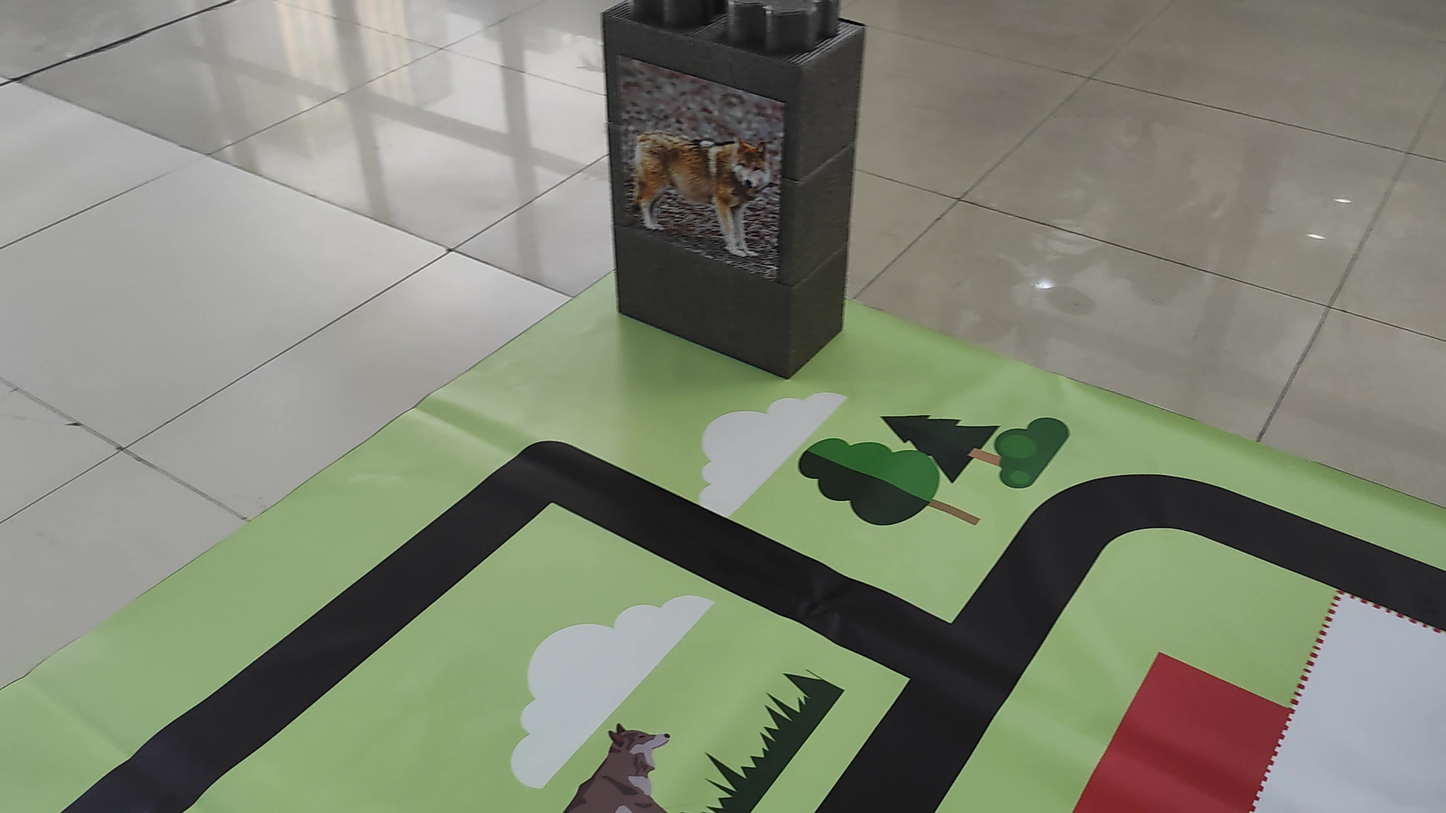wolf: (610, 57, 779, 261)
